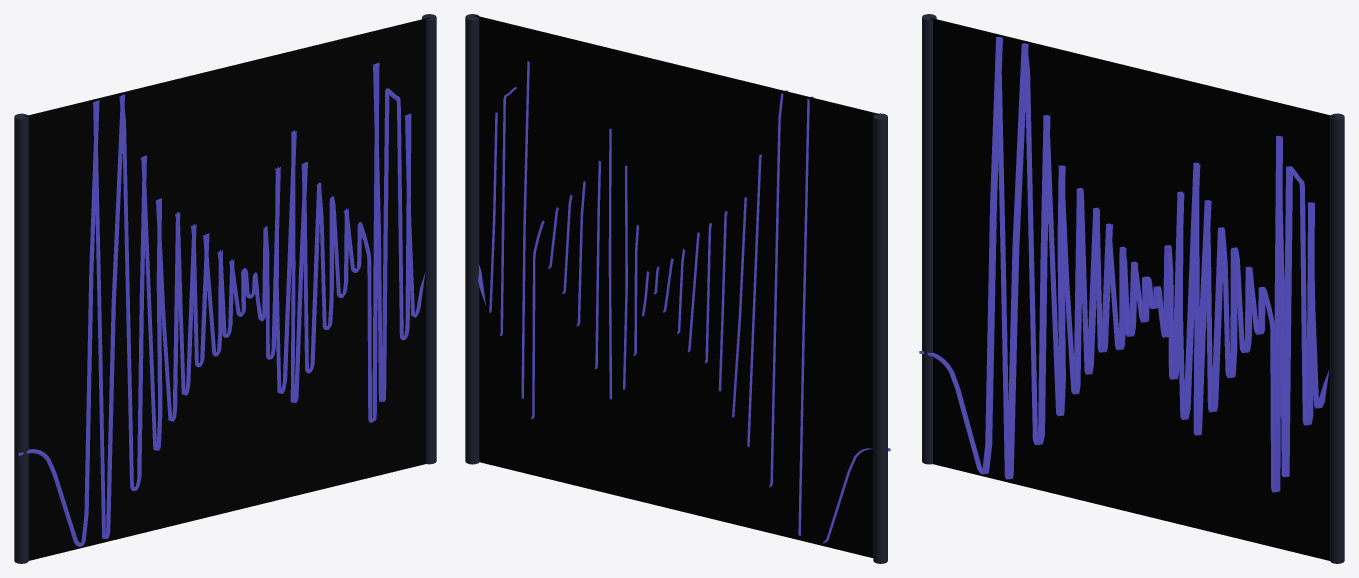
File: Mur_2.fbx
The picture shows the model from 3 angles, left to right: view 1: azimuth 30°, elevation 25°; view 2: azimuth 150°, elevation 25°; view 3: azimuth 330°, elevation 25°; orthographic projection.
Visible parts, largest first — view 1: Mur_2; view 2: Mur_2; view 3: Mur_2.
Part boxes in pixels (left/top/right/bottom): Mur_2: left=14, top=14, right=436, bottom=563; Mur_2: left=465, top=14, right=890, bottom=563; Mur_2: left=919, top=14, right=1344, bottom=563.
Bounding box in the file's own units: 533 × 538 × 17.86.
